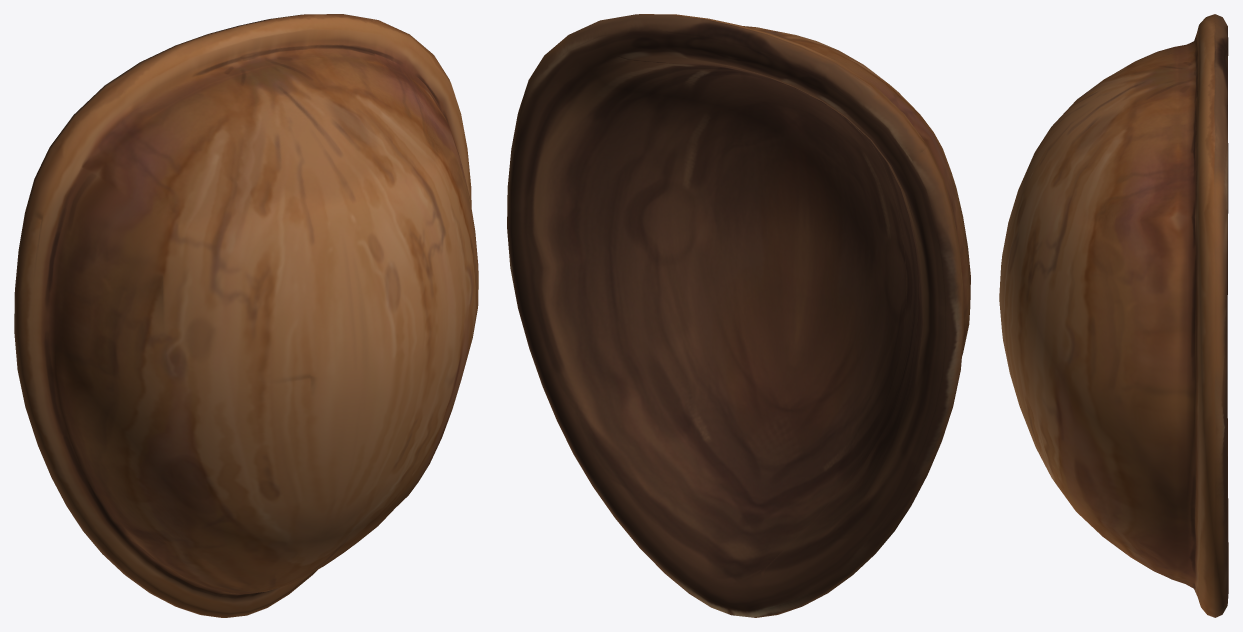
Rendered from WalnutShieldVisuals.fbx.
3 renders of one model, left to right at view 1: azimuth 30°, elevation 25°; view 2: azimuth 150°, elevation 25°; view 3: azimuth 270°, elevation 25°, orthographic. The views are drawn at different scales.
Parts seen in each view (by area): view 1: WalnutShield; view 2: WalnutShield; view 3: WalnutShield.
Part boxes in pixels (x1,y1,x2,y2): WalnutShield: (14, 14, 478, 617); WalnutShield: (507, 14, 970, 617); WalnutShield: (999, 14, 1228, 617).
Size of the model in its own units: 83.52 by 104 by 38.63.
